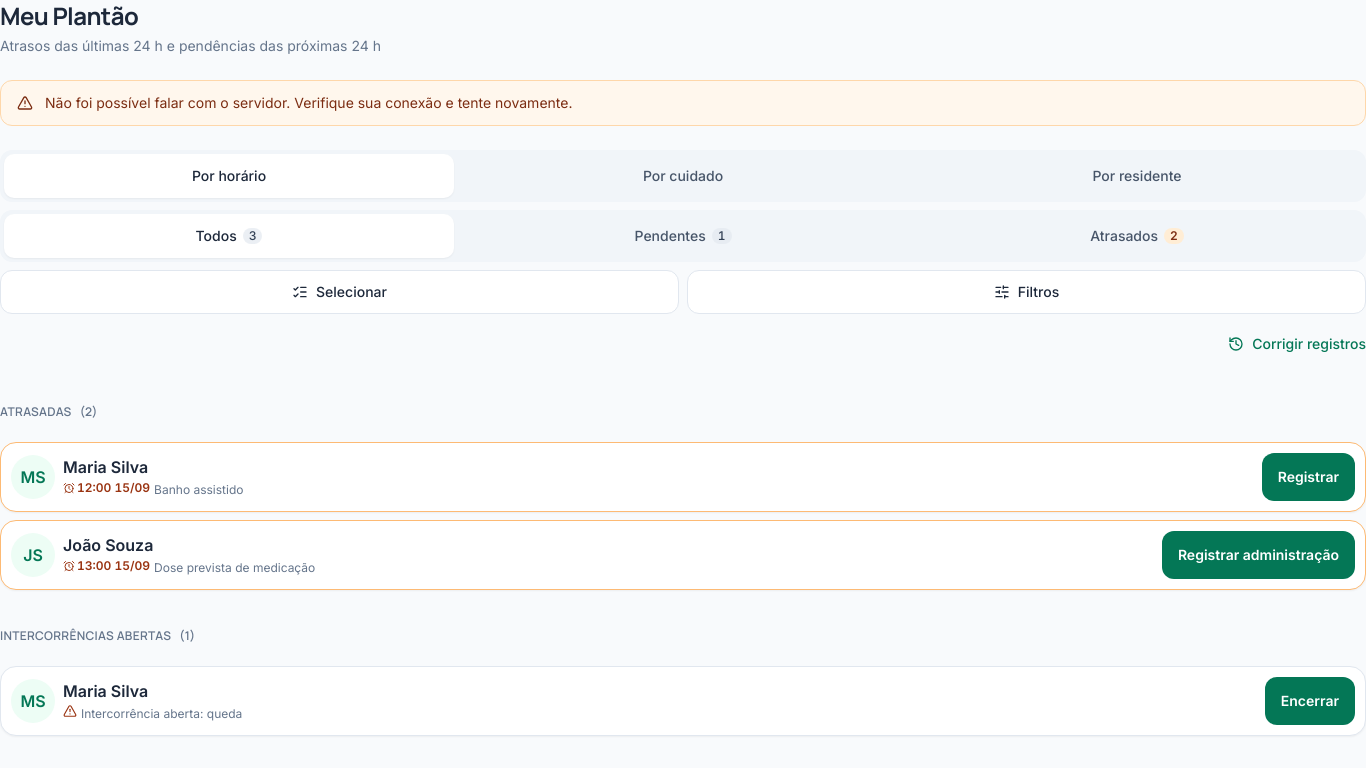
Test: MeuPlantao — validações condicionais espelham o backend › 11. dose administrada exige quantidade maior que zero
Step 1. Click the button "Registrar administração" → {"x": 1258, "y": 555}, box [1162,531,1355,579]
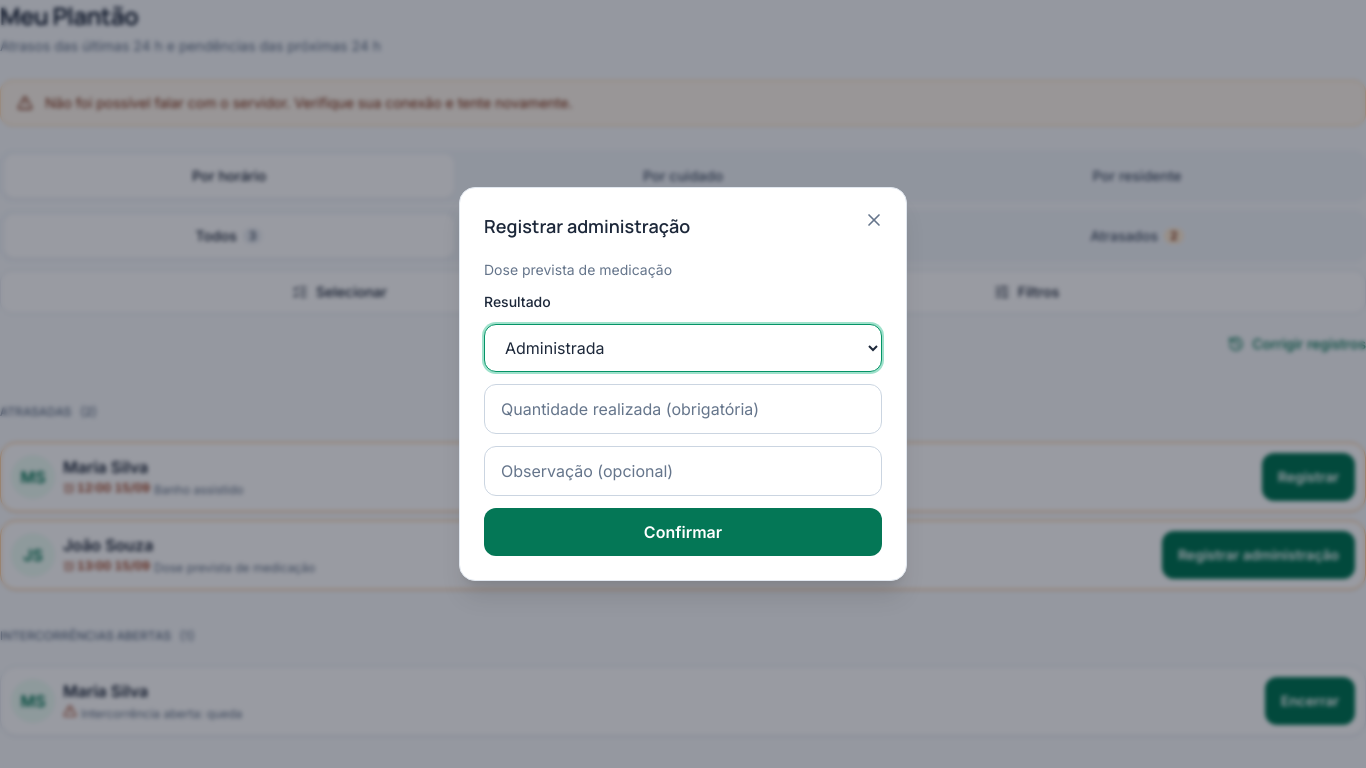
Step 2. Click the button "Confirmar" → {"x": 683, "y": 532}, box [484,508,882,556]
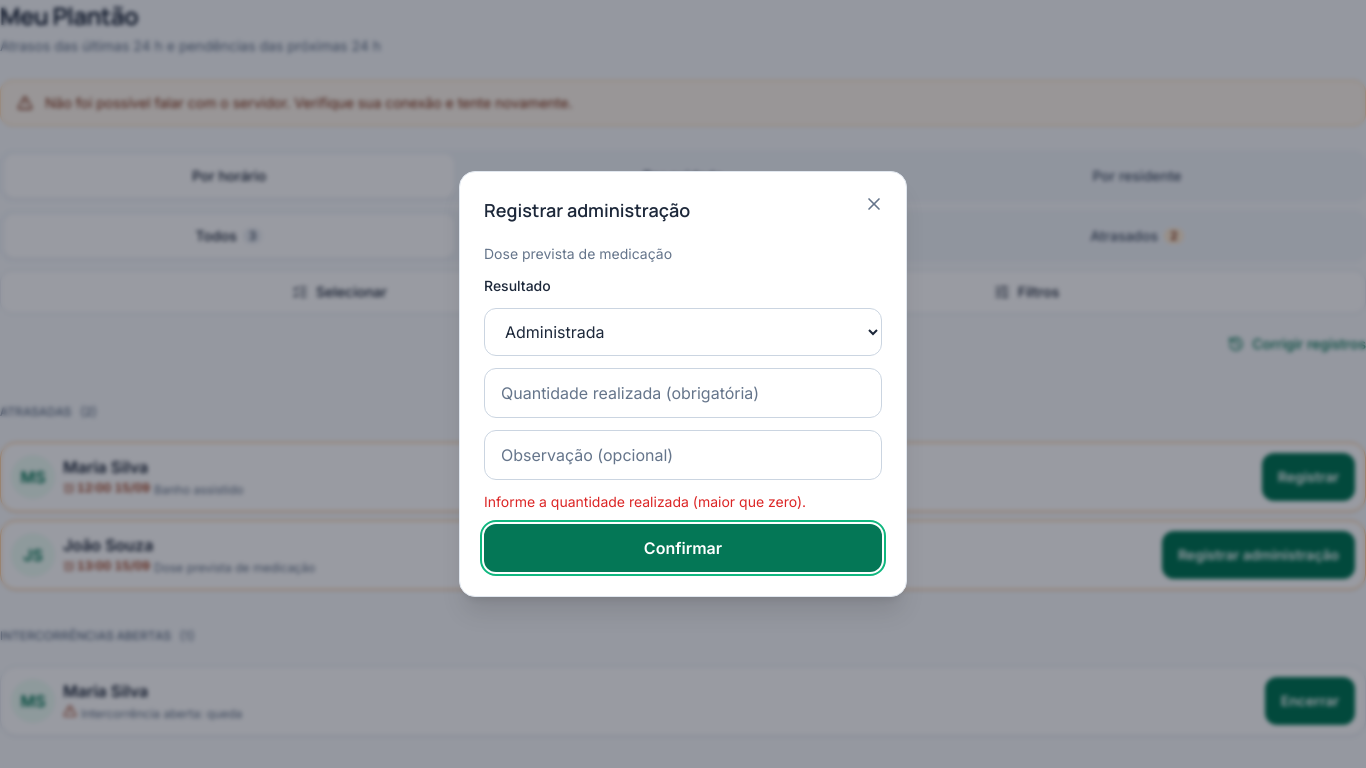
Result: the text "Informe a quantidade realizada (maior que zero)." is shown at [484,493,806,510]
